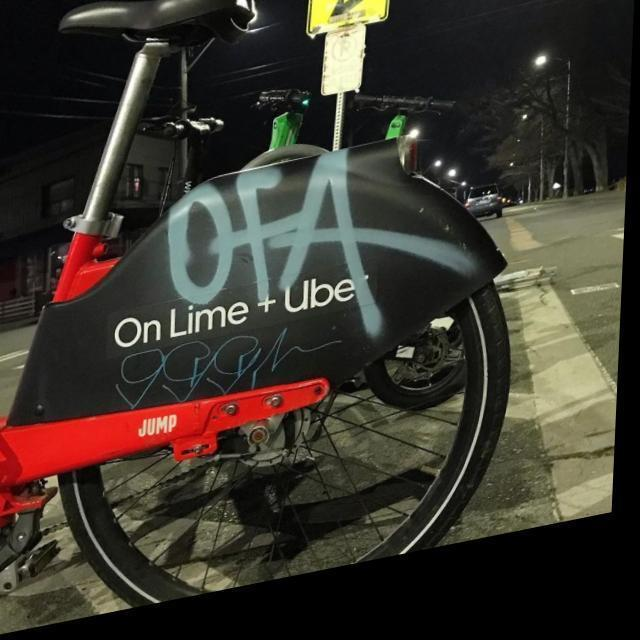nonspitting: (166, 147, 474, 336), (116, 329, 348, 412)
